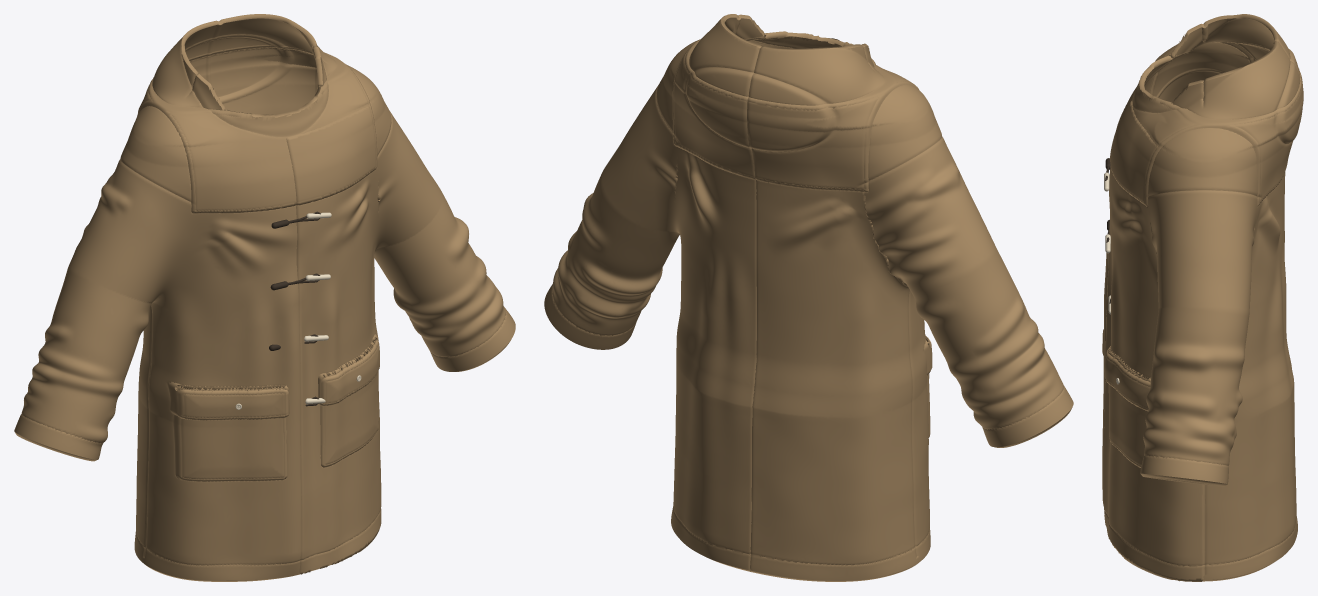
File: 06_trenca.glb
3 renders of one model, left to right at view 1: azimuth 30°, elevation 25°; view 2: azimuth 150°, elevation 25°; view 3: azimuth 270°, elevation 25°, orthographic. The views are drawn at different scales.
Visible parts, largest first — view 1: body, trim; view 2: body; view 3: body, button.
Part boxes in pixels (x1,y1,x2,y2): body: [14, 14, 515, 581]; trim: [269, 211, 320, 406]; body: [544, 14, 1073, 581]; body: [1102, 14, 1303, 581]; button: [1104, 172, 1119, 384].
Bounding box in the file's own units: 1.07 × 1.04 × 0.3858.
